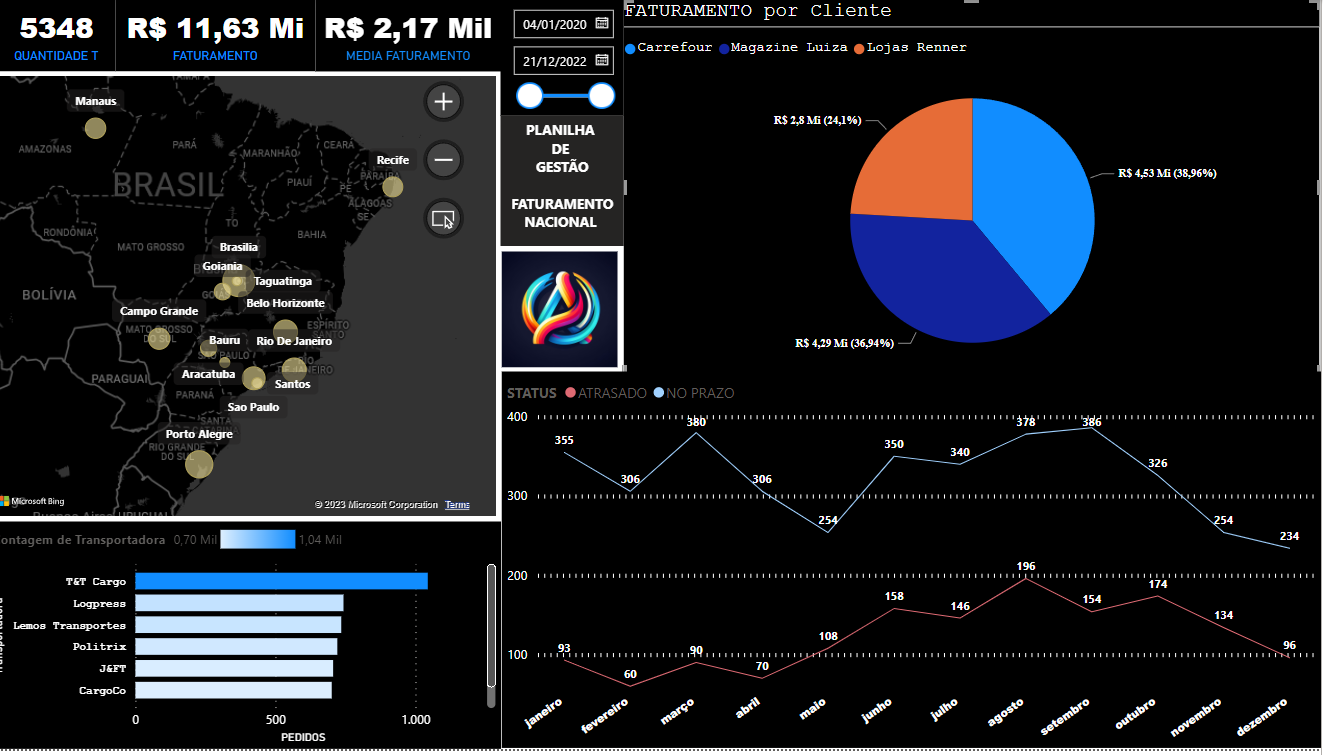

The dashboard page shown, as its layout file describes it:
{"tool":"powerbi","page":{"name":"PROJETO A","canvas":[1280,720],"ordinal":0},"visuals":[{"type":"card","fields":{"Values":["Count(BASE DE DADOS.NotaFiscal)"]},"box":[9.6,0,112.5,70],"z":0},{"type":"card","fields":{"Values":["Sum(BASE DE DADOS.Valor Total)"]},"box":[122.1,0,192.1,70],"z":1000},{"type":"map","fields":{"Category":["BASE DE DADOS.Origem/Destino.2"],"Size":["Sum(BASE DE DADOS.Valor Total)"]},"box":[0,70,492.6,432.2],"z":2000},{"type":"pieChart","fields":{"Y":["Sum(BASE DE DADOS.Valor Total)"],"Category":["BASE DE DADOS.Cliente"]},"box":[610.5,0,669.8,362.5],"z":3000},{"type":"card","fields":{"Values":["BASE_DADOS.TICKET_M"]},"box":[314.2,0,178.4,70],"z":4000},{"type":"clusteredBarChart","fields":{"Category":["BASE_DADOS.Transportadora"],"Y":["CountNonNull(BASE_DADOS.NotaFiscal)"]},"box":[0,502.2,492.6,218.2],"z":5000},{"type":"lineChart","fields":{"Category":["BASE_DADOS.Pedido.Variation.Hierarquia de datas.Ano","BASE_DADOS.Pedido.Variation.Hierarquia de datas.Trimestre","BASE_DADOS.Pedido.Variation.Hierarquia de datas.Mês","BASE_DADOS.Pedido.Variation.Hierarquia de datas.Dia"],"Y":["CountNonNull(BASE_DADOS.NotaFiscal)"],"Series":["BASE_DADOS.STATUS"]},"box":[492.9,357.9,787.3,361.9],"z":6000},{"type":"slicer","fields":{"Values":["BASE_DADOS.Pedido"]},"box":[491.9,0,118.6,111.9],"z":7000},{"type":"textbox","box":[491.9,111.9,118.6,125.3],"z":8000},{"type":"image","box":[489.2,237.2,121.3,121.3],"z":8001}]}

Visuals, with their boxes in screenshot pixels (x1, y1, x2, y2), scaled from the page's 1280x720 canvas onto the 1323x755 screenshot:
card - Count(BASE DE DADOS.NotaFiscal): bbox=[10, 0, 126, 73]
card - Sum(BASE DE DADOS.Valor Total): bbox=[126, 0, 325, 73]
map - BASE DE DADOS.Origem/Destino.2 x Sum(BASE DE DADOS.Valor Total): bbox=[0, 73, 509, 527]
pieChart - Sum(BASE DE DADOS.Valor Total) x BASE DE DADOS.Cliente: bbox=[631, 0, 1322, 380]
card - BASE_DADOS.TICKET_M: bbox=[325, 0, 509, 73]
clusteredBarChart - BASE_DADOS.Transportadora x CountNonNull(BASE_DADOS.NotaFiscal): bbox=[0, 527, 509, 754]
lineChart - BASE_DADOS.Pedido.Variation.Hierarquia de datas.Ano x BASE_DADOS.Pedido.Variation.Hierarquia de datas.Trimestre: bbox=[509, 375, 1322, 754]
slicer - BASE_DADOS.Pedido: bbox=[508, 0, 631, 117]
textbox: bbox=[508, 117, 631, 249]
image: bbox=[506, 249, 631, 376]
